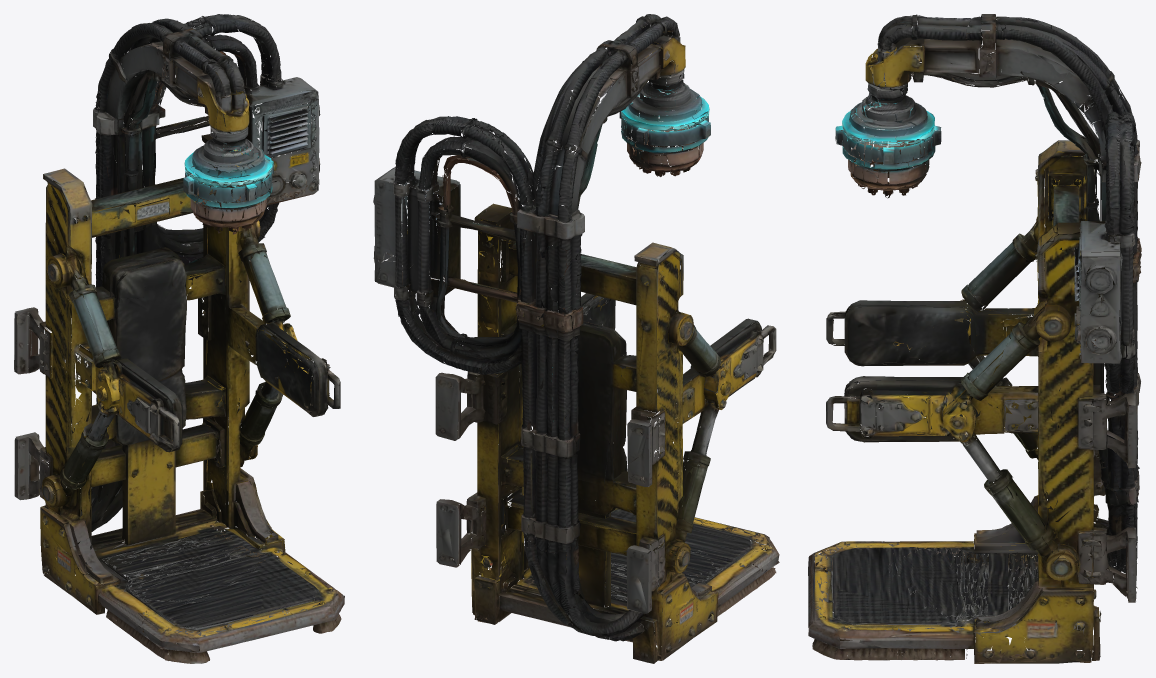
Rendered from meridian_servitor_recharge_cradle.glb.
3 views of the same model, side by side, from view 1: azimuth 30°, elevation 25°; view 2: azimuth 150°, elevation 25°; view 3: azimuth 270°, elevation 25° (orthographic). The views are drawn at different scales.
Parts seen in each view (by area): view 1: node_0; view 2: node_0; view 3: node_0.
Part boxes in pixels (x1,y1,x2,y2): node_0: [14, 14, 344, 663]; node_0: [373, 14, 779, 663]; node_0: [808, 14, 1141, 663].
Bounding box in the file's own units: 0.5458 × 1.01 × 0.5135.
Materials: 1 (1 with a texture image).
